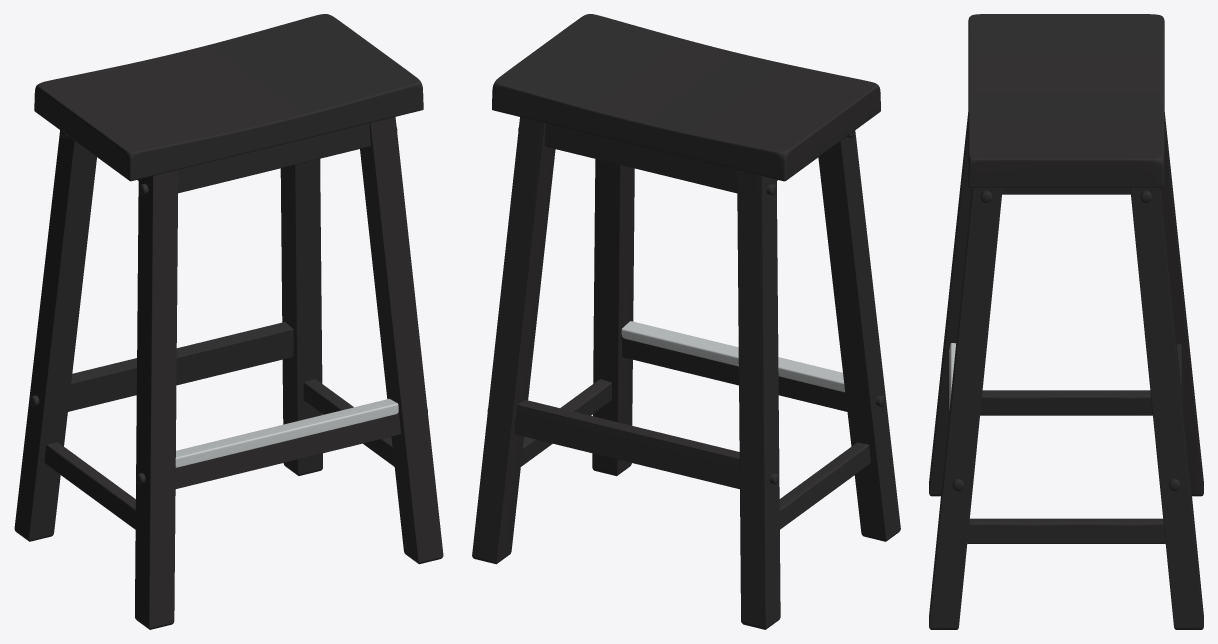
Rendered from stool_B07L6KM74G.glb.
3 renders of one model, left to right at view 1: azimuth 30°, elevation 25°; view 2: azimuth 150°, elevation 25°; view 3: azimuth 270°, elevation 25°, orthographic.
Visible parts, largest first — view 1: RootNode; view 2: RootNode; view 3: RootNode.
Boxes of the visible parts, left/top/right/bottom form: RootNode: left=14, top=14, right=443, bottom=629; RootNode: left=472, top=14, right=900, bottom=629; RootNode: left=929, top=14, right=1203, bottom=629.
Size of the model in its own units: 0.4056 by 0.6096 by 0.3221.
1 material, 1 textured.
